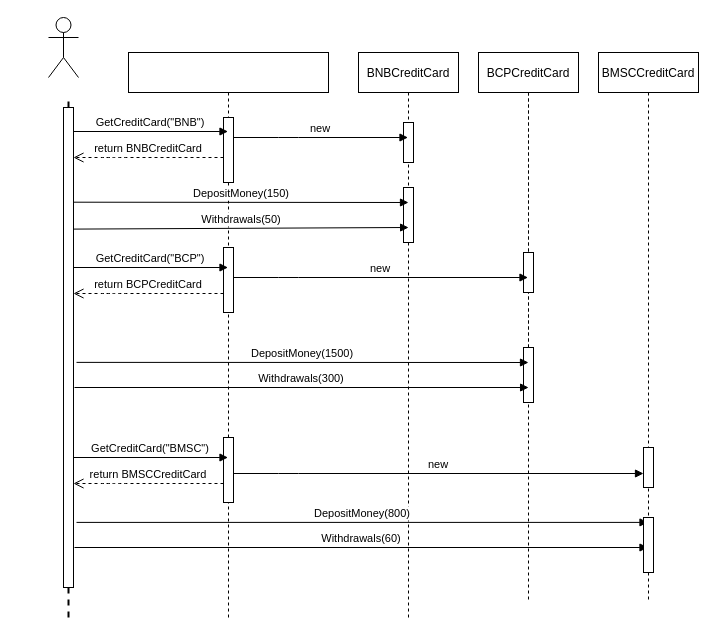
Some shapes in this 716 by 637 pixel diagram are drawn without their labels. Each missing label, with the centre of its shape:
"Cliente (program)" belongs at (63,47).
"ConcreteCreditCardFactory" belongs at (228,335).
